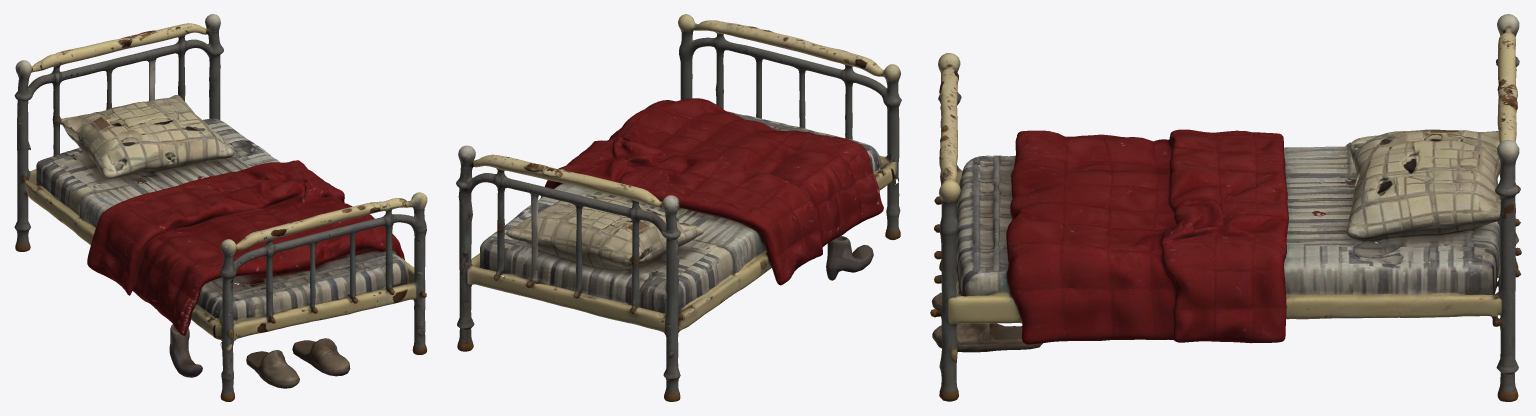
File: g67_event_bed.glb
3 views of the same model, side by side, from view 1: azimuth 30°, elevation 25°; view 2: azimuth 150°, elevation 25°; view 3: azimuth 270°, elevation 25° (orthographic). The views are drawn at different scales.
Parts seen in each view (by area): view 1: tripo_node_28a8d08d; view 2: tripo_node_28a8d08d; view 3: tripo_node_28a8d08d.
Boxes of the visible parts, left/top/right/bottom form: tripo_node_28a8d08d: left=14, top=14, right=427, bottom=401; tripo_node_28a8d08d: left=456, top=14, right=901, bottom=401; tripo_node_28a8d08d: left=930, top=14, right=1521, bottom=401.
Size of the model in its own units: 60.44 by 47.07 by 97.87.
Materials: 1 (1 with a texture image).
